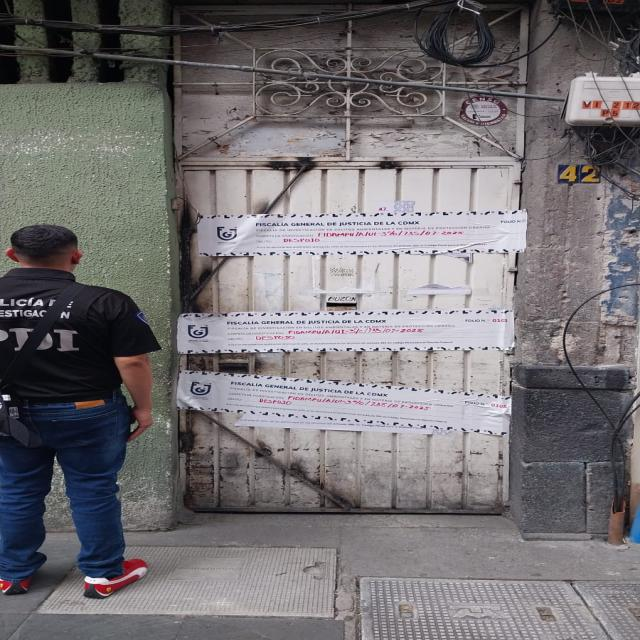stamps: (178, 372, 513, 434), (195, 210, 532, 254), (176, 312, 516, 354)
